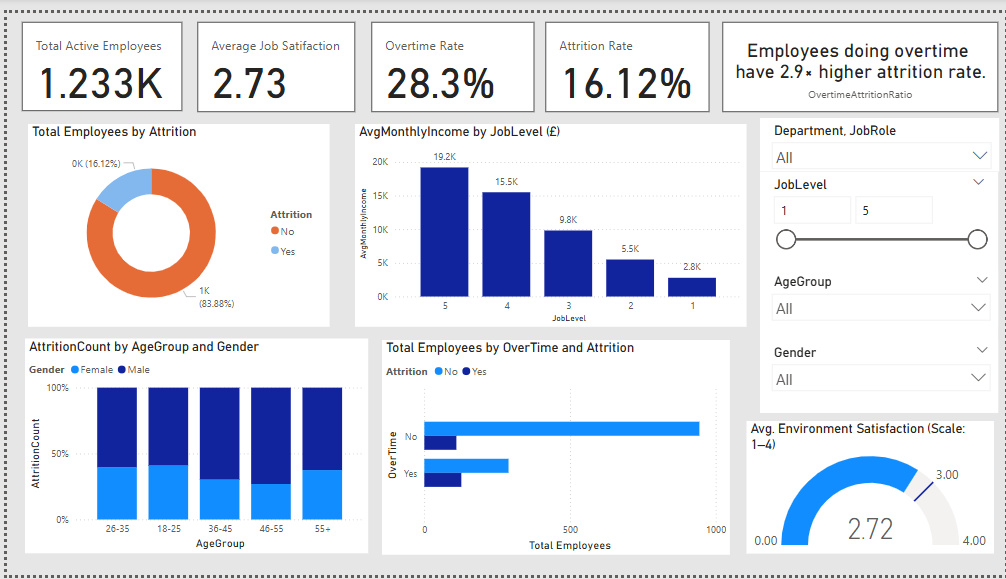

This screenshot's page, from the dashboard's own definition file:
{"tool":"powerbi","page":{"name":"Page 1","canvas":[1280,720],"ordinal":0},"visuals":[{"type":"cardVisual","fields":{"Data":["cleaned_data.Total_Active_employees"]},"box":[19.6,12.5,205.4,114.3],"z":0},{"type":"cardVisual","fields":{"Data":["cleaned_data.Overtime Rate"]},"box":[466.7,11.7,208.3,115],"z":1000},{"type":"cardVisual","fields":{"Data":["cleaned_data.Average Job Satifaction"]},"box":[243.3,11.7,201.7,115],"z":2000},{"type":"donutChart","fields":{"Y":["cleaned_data.Total Employees"],"Category":["cleaned_data.Attrition"]},"box":[26.7,141.7,386.7,260],"z":3000},{"type":"cardVisual","fields":{"Data":["cleaned_data.Attrition Rate"]},"box":[690,11.7,210,115],"z":4000},{"type":"gauge","title":"Avg. Environment Satisfaction (Scale: 1–4)","fields":{"Y":["cleaned_data.Environment Satisfaction"],"MaxValue":["cleaned_data.max_satisfaction"],"TargetValue":["cleaned_data.target performance"]},"box":[948.6,522.9,317.1,170],"z":5000},{"type":"hundredPercentStackedColumnChart","fields":{"Series":["cleaned_data.Gender"],"Category":["cleaned_data.AgeGroup"],"Y":["cleaned_data.AttritionCount"]},"box":[22.5,417.5,440,275],"z":6000},{"type":"clusteredColumnChart","title":"AvgMonthlyIncome by JobLevel (£) ","fields":{"Y":["cleaned_data.AvgMonthlyIncome"],"Category":["cleaned_data.JobLevel"]},"box":[446.7,141.7,501.7,260],"z":7000},{"type":"slicer","fields":{"Values":["cleaned_data.Department","cleaned_data.JobRole"]},"box":[965,135,306.7,68.3],"z":8000},{"type":"slicer","fields":{"Values":["cleaned_data.JobLevel"]},"box":[965,203.3,305,308.3],"z":9000},{"type":"slicer","fields":{"Values":["cleaned_data.AgeGroup"]},"box":[965,328.3,305,73.3],"z":10000},{"type":"slicer","fields":{"Values":["cleaned_data.Gender"]},"box":[965,418.3,305,93.3],"z":11000},{"type":"clusteredBarChart","fields":{"Category":["cleaned_data.OverTime"],"Y":["cleaned_data.Total Employees"],"Series":["cleaned_data.Attrition"]},"box":[469.2,417.3,457.7,275],"z":12000},{"type":"card","fields":{"Values":["cleaned_data.OvertimeAttritionRatio"]},"box":[916.7,11.7,353.3,115],"z":13000}]}

Visuals, with their boxes in screenshot pixels (x1, y1, x2, y2), scaled from the page's 1280x720 canvas onto the 1006x579 screenshot:
cardVisual - cleaned_data.Total_Active_employees: detection(15, 10, 177, 102)
cardVisual - cleaned_data.Overtime Rate: detection(367, 9, 531, 102)
cardVisual - cleaned_data.Average Job Satifaction: detection(191, 9, 350, 102)
donutChart - cleaned_data.Total Employees x cleaned_data.Attrition: detection(21, 114, 325, 323)
cardVisual - cleaned_data.Attrition Rate: detection(542, 9, 707, 102)
"Avg. Environment Satisfaction (Scale: 1–4)" gauge: detection(746, 420, 995, 557)
hundredPercentStackedColumnChart - cleaned_data.Gender x cleaned_data.AgeGroup: detection(18, 336, 363, 557)
"AvgMonthlyIncome by JobLevel (£) " clusteredColumnChart: detection(351, 114, 745, 323)
slicer - cleaned_data.Department x cleaned_data.JobRole: detection(758, 109, 999, 163)
slicer - cleaned_data.JobLevel: detection(758, 163, 998, 411)
slicer - cleaned_data.AgeGroup: detection(758, 264, 998, 323)
slicer - cleaned_data.Gender: detection(758, 336, 998, 411)
clusteredBarChart - cleaned_data.OverTime x cleaned_data.Total Employees: detection(369, 336, 728, 557)
card - cleaned_data.OvertimeAttritionRatio: detection(720, 9, 998, 102)
